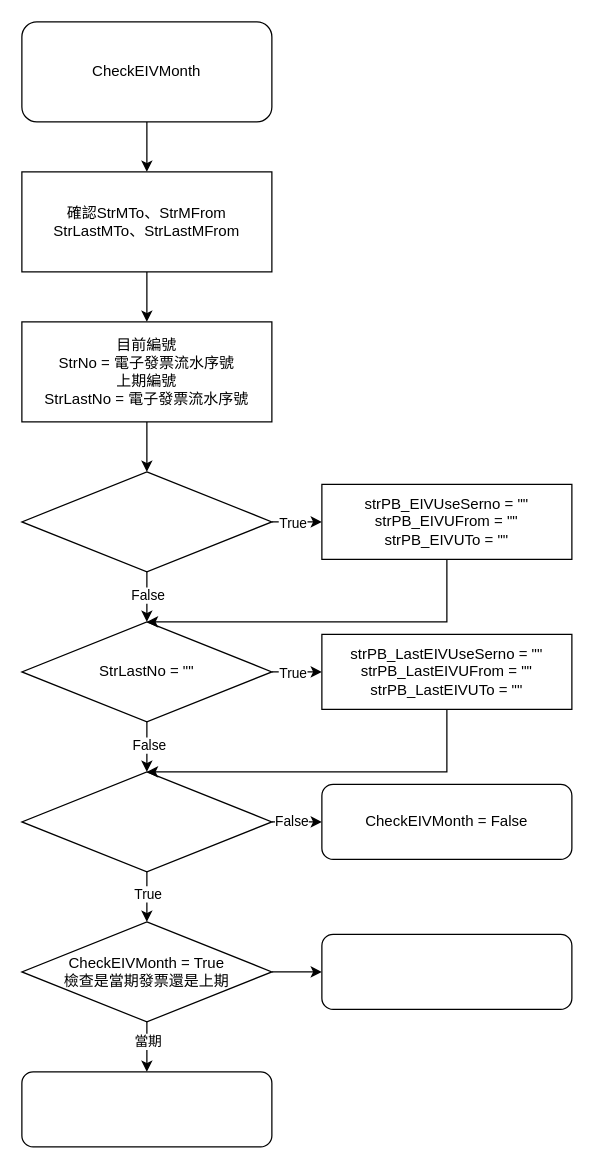
Some shapes in this 594 by 1169 pixel diagram are drawn without their labels. The shapes that lost their labels are listed below. From the top down, each one's box as (x1, y1, x2, y2) in pixels, then its label:
(21, 471, 272, 572): StrNo = ""
(21, 771, 272, 872): 檢查目前號碼 是否為現月份
(321, 933, 572, 1009): blnIsLast = True
(21, 1071, 272, 1147): blnIsLast = False
